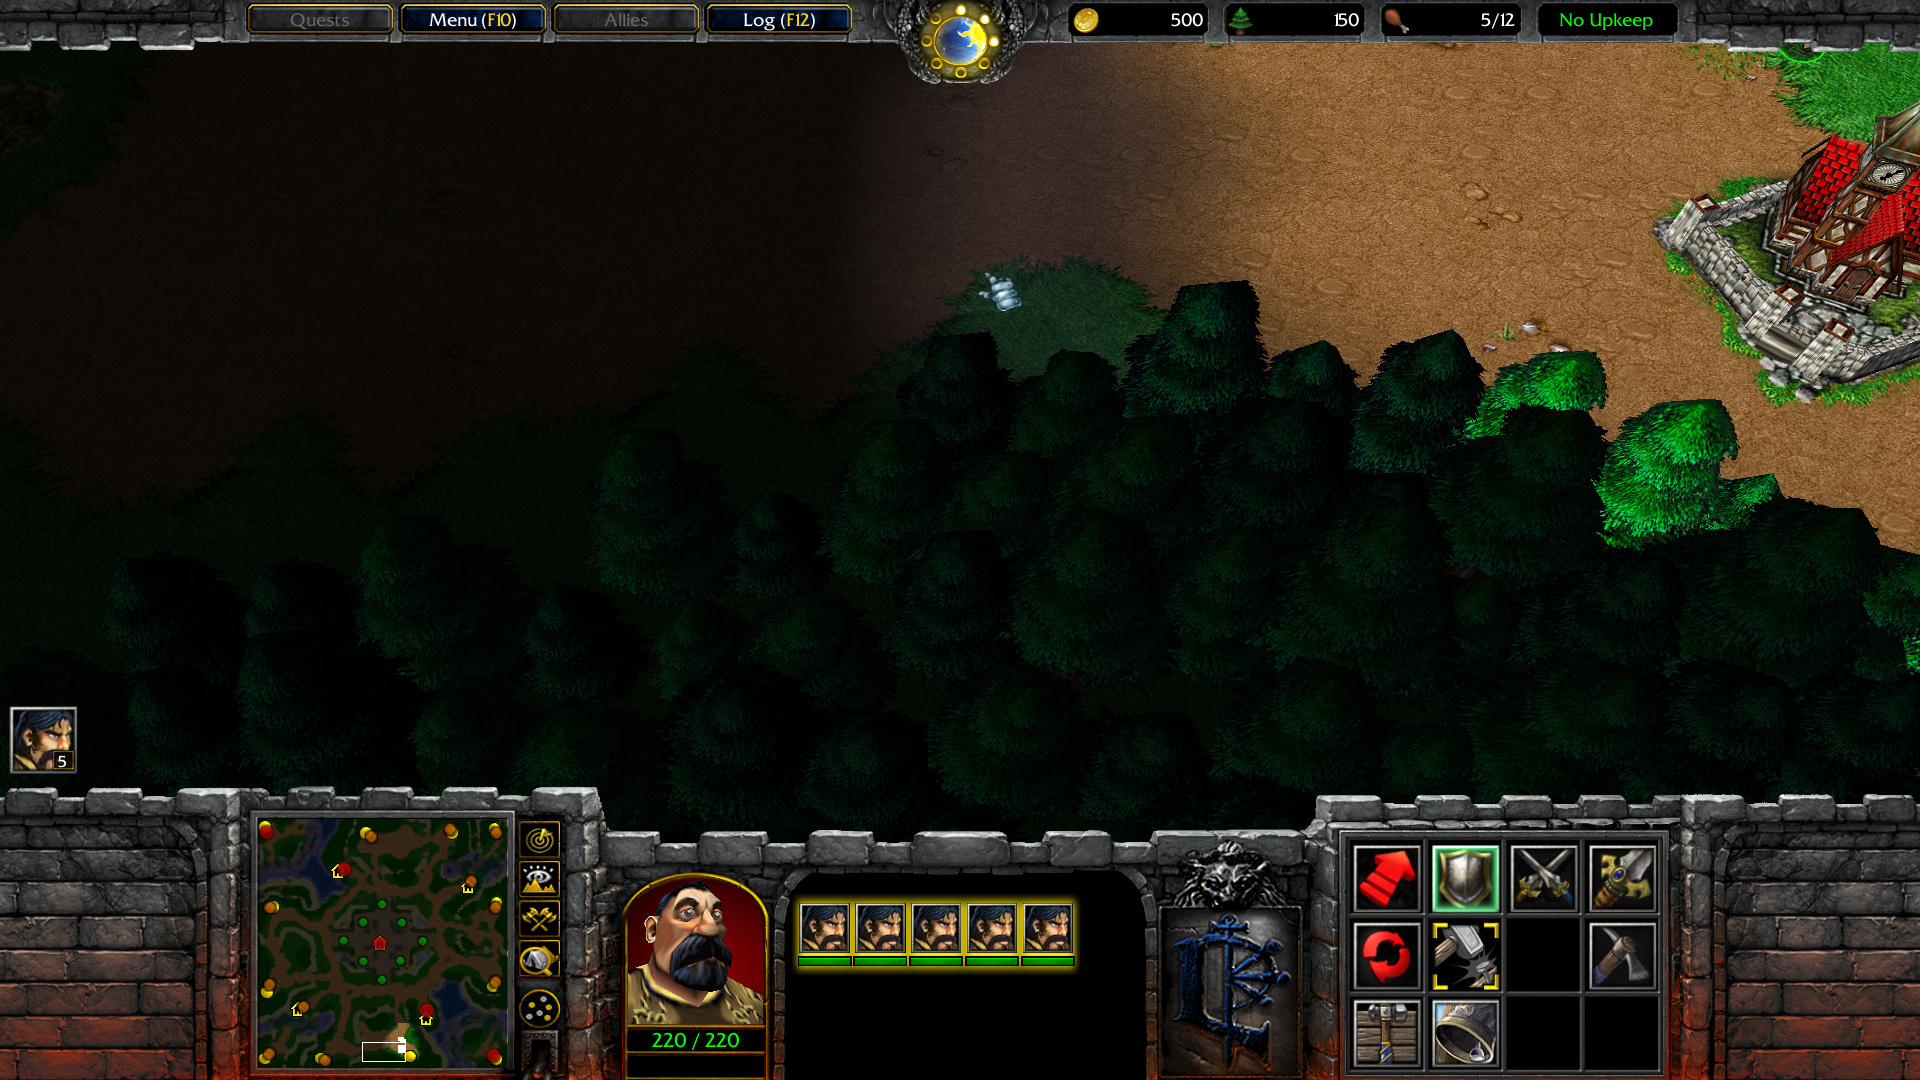Townhall: (1651, 99, 1920, 402)
